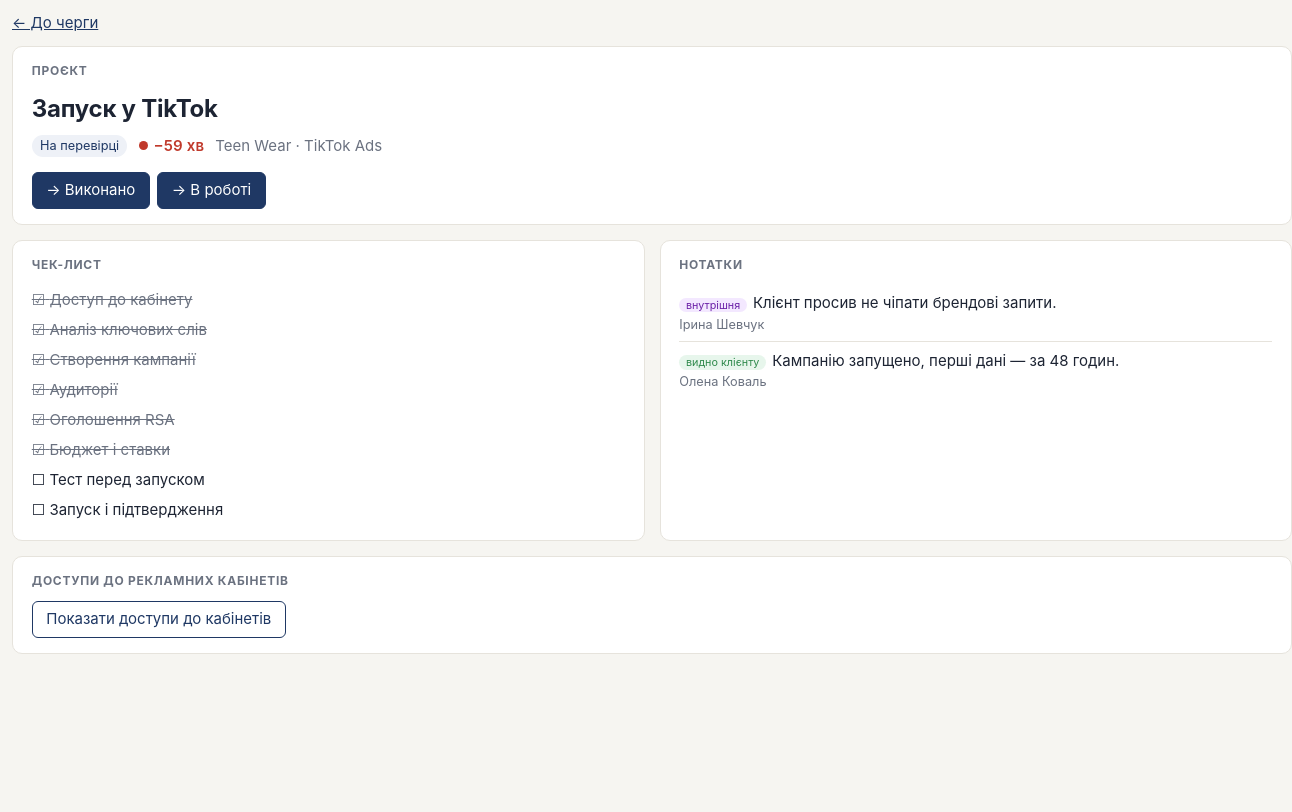
Test: Б-5ф: панель пропонує рівно allowedTransitions (лише UX) › перехід, що вимагає коментаря, спершу просить коментар і лише потім шле запит
The width and height of the screenshot is (1292, 812).
Click the button "→ В роботі": (212, 190) [157,172,266,208]
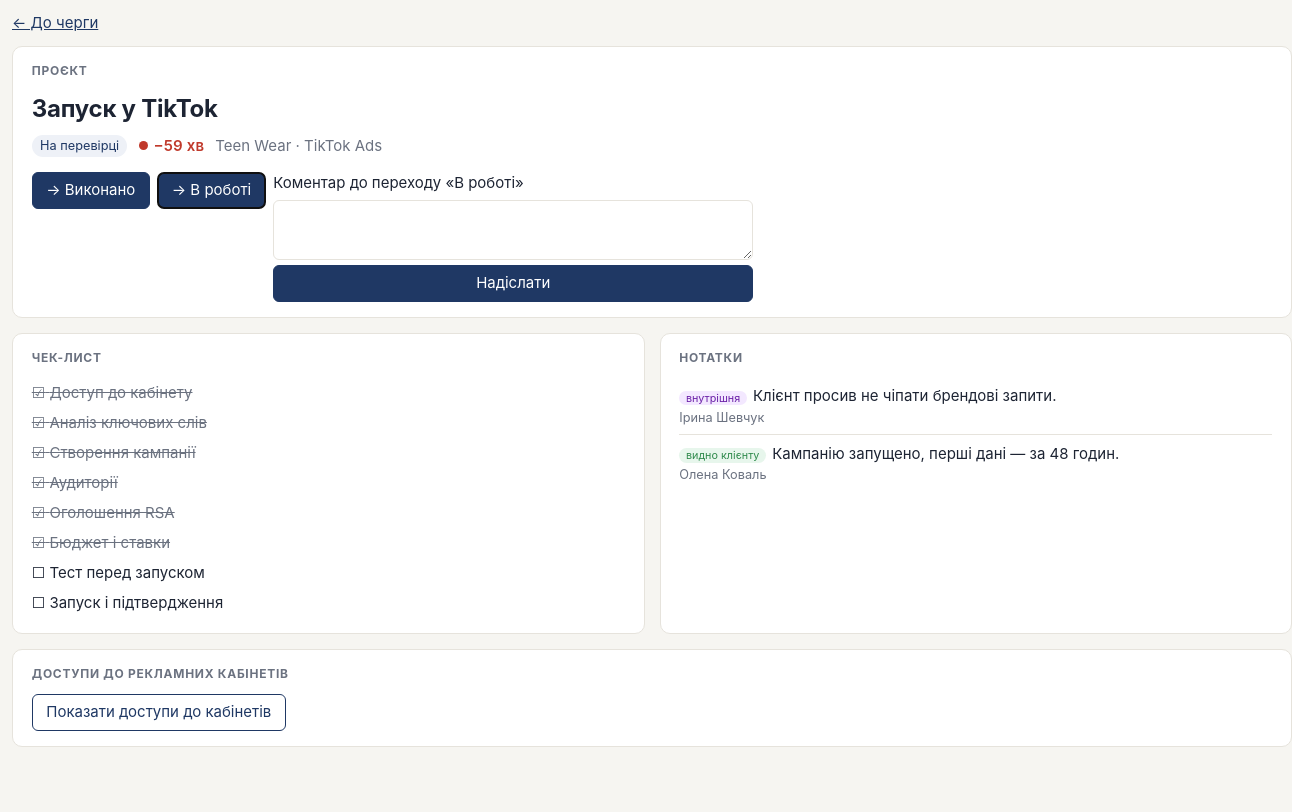
In the text box labelled "Коментар до переходу «В роботі»": (513, 230) [273,200,753,260], type "Не вистачає трьох заголовків"
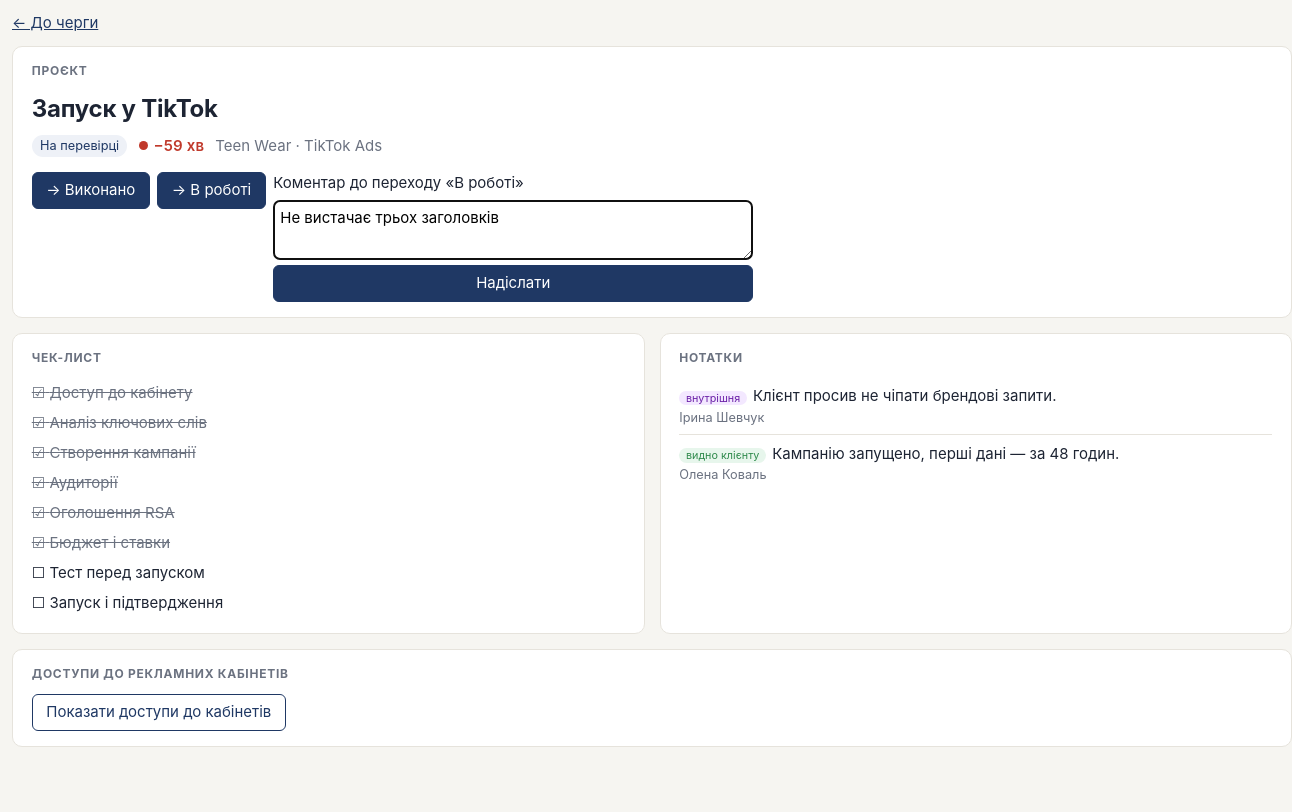
Click the button "Надіслати": (513, 283) [273,265,753,302]
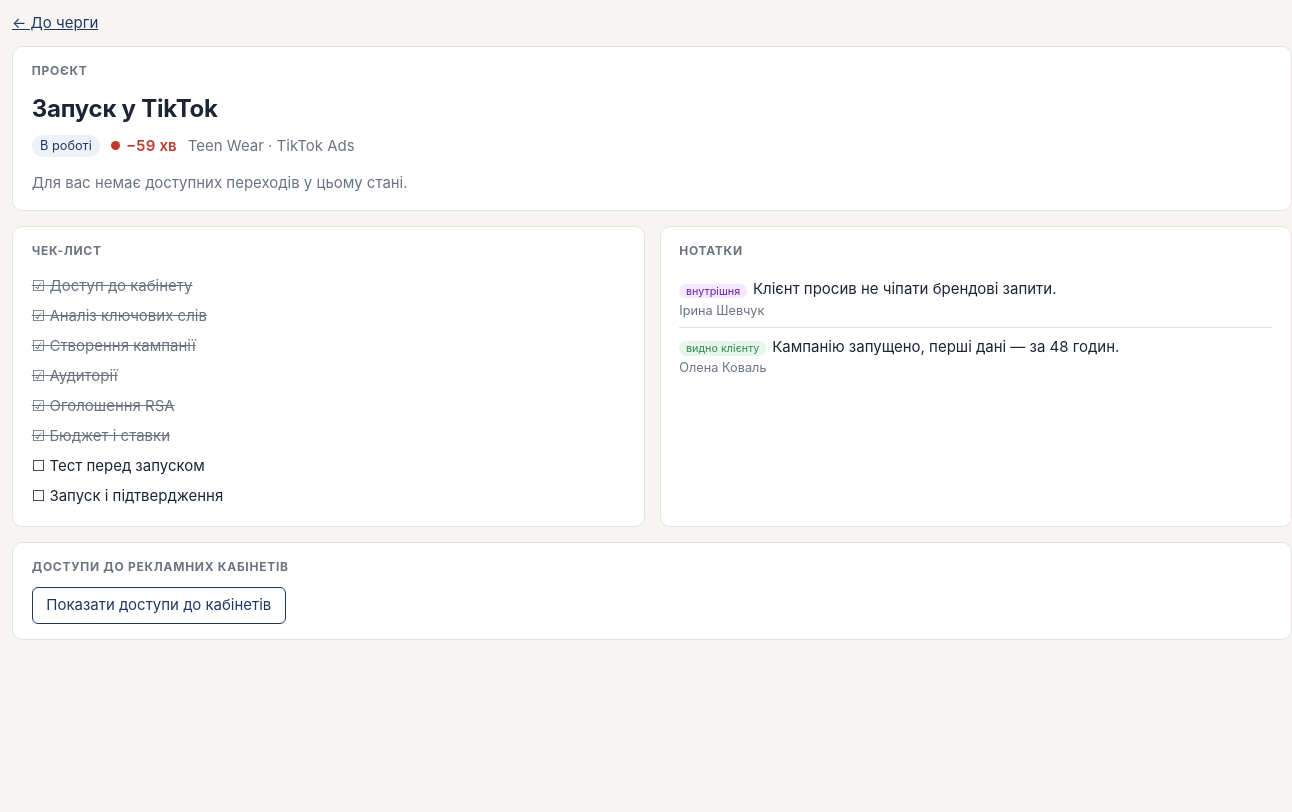
Check: the text "В роботі" is shown, box [32,135,100,157]
